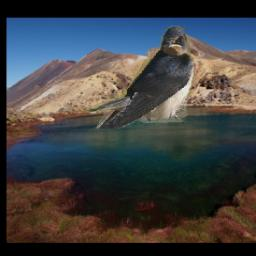Swallow: (84, 26, 194, 129)
